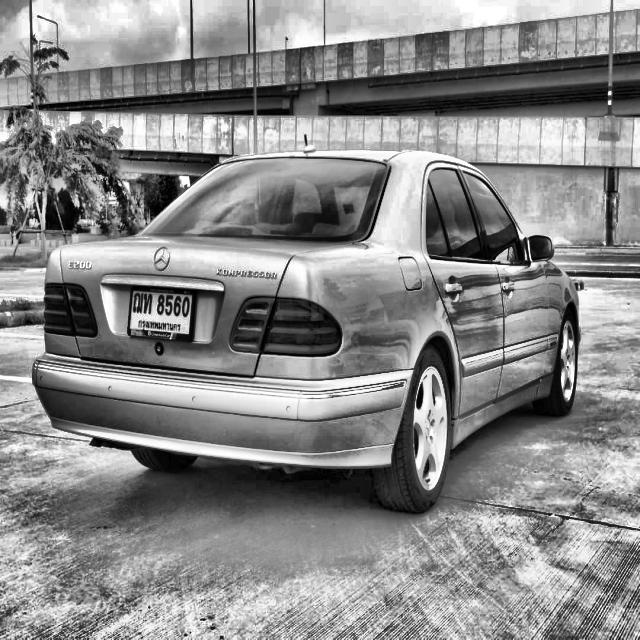license-plate: (128, 284, 200, 342)
